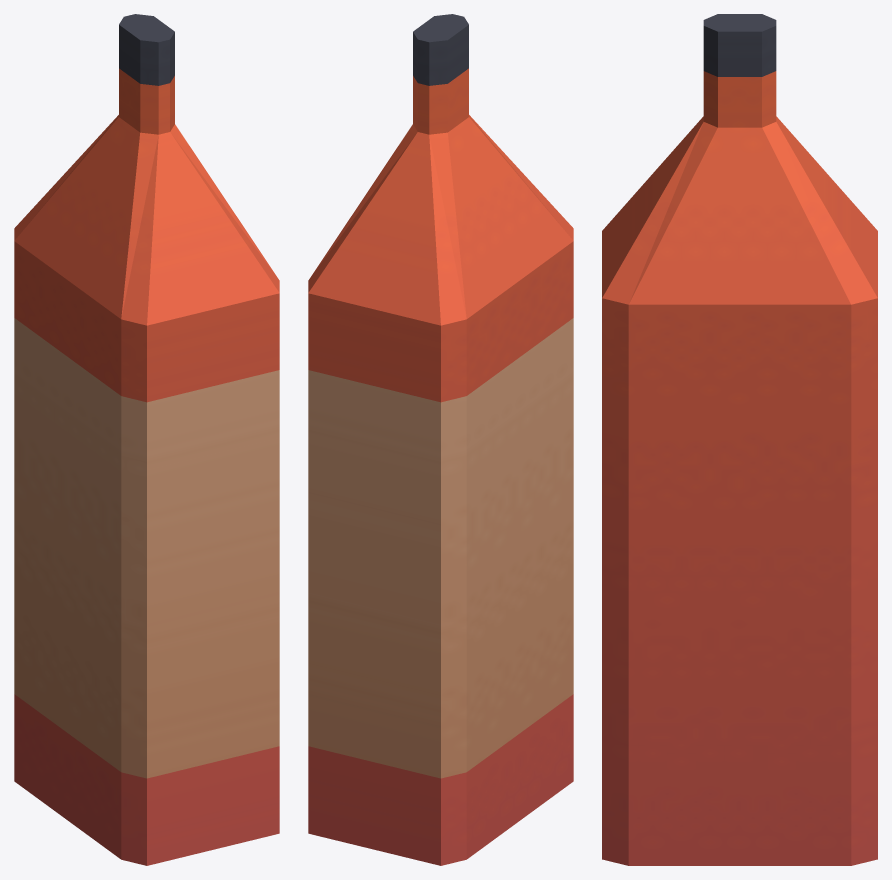
File: bottleFlat.fbx
3 views of the same model, side by side, from view 1: azimuth 30°, elevation 25°; view 2: azimuth 150°, elevation 25°; view 3: azimuth 270°, elevation 25° (orthographic). The views are drawn at different scales.
Visible parts, largest first — view 1: bottleFlat; view 2: bottleFlat; view 3: bottleFlat.
Part boxes in pixels (bbox=[...]): bottleFlat: bbox=[14, 14, 279, 865]; bottleFlat: bbox=[308, 14, 573, 865]; bottleFlat: bbox=[602, 14, 877, 865].
Bounding box in the file's own units: 0.043 × 0.0624 × 0.2003.
